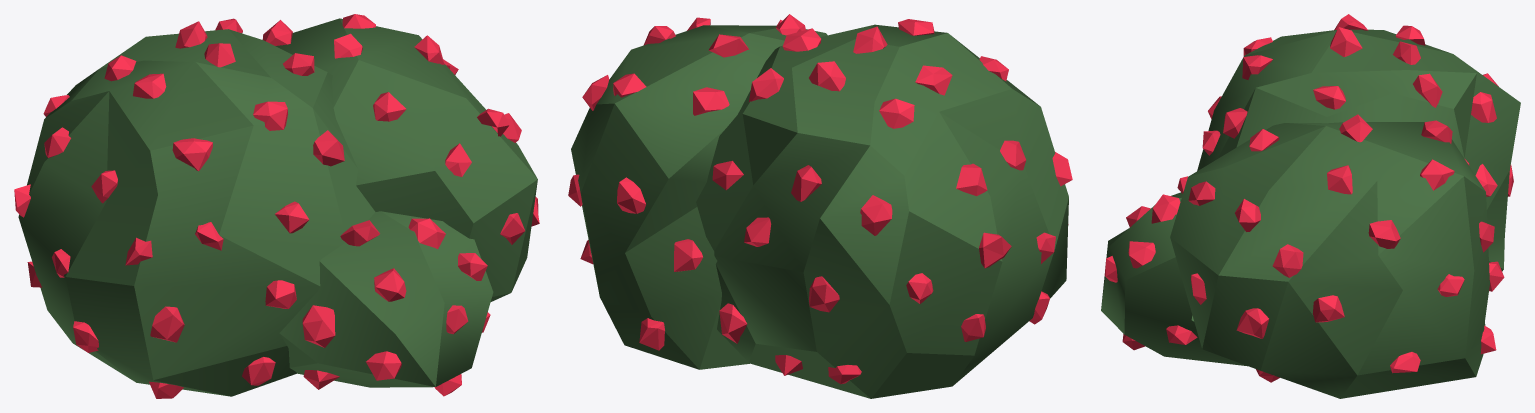
Rendered from Bush1_WF.fbx.
3 renders of one model, left to right at view 1: azimuth 30°, elevation 25°; view 2: azimuth 150°, elevation 25°; view 3: azimuth 270°, elevation 25°, orthographic. The views are drawn at different scales.
Parts seen in each view (by area): view 1: Bush1_WF; view 2: Bush1_WF; view 3: Bush1_WF.
Boxes of the visible parts, box(x1,y1,x2,y2) form: Bush1_WF: box(14, 14, 539, 398); Bush1_WF: box(568, 14, 1072, 398); Bush1_WF: box(1101, 14, 1520, 398).
Size of the model in its own units: 45.91 by 29.53 by 40.81.
